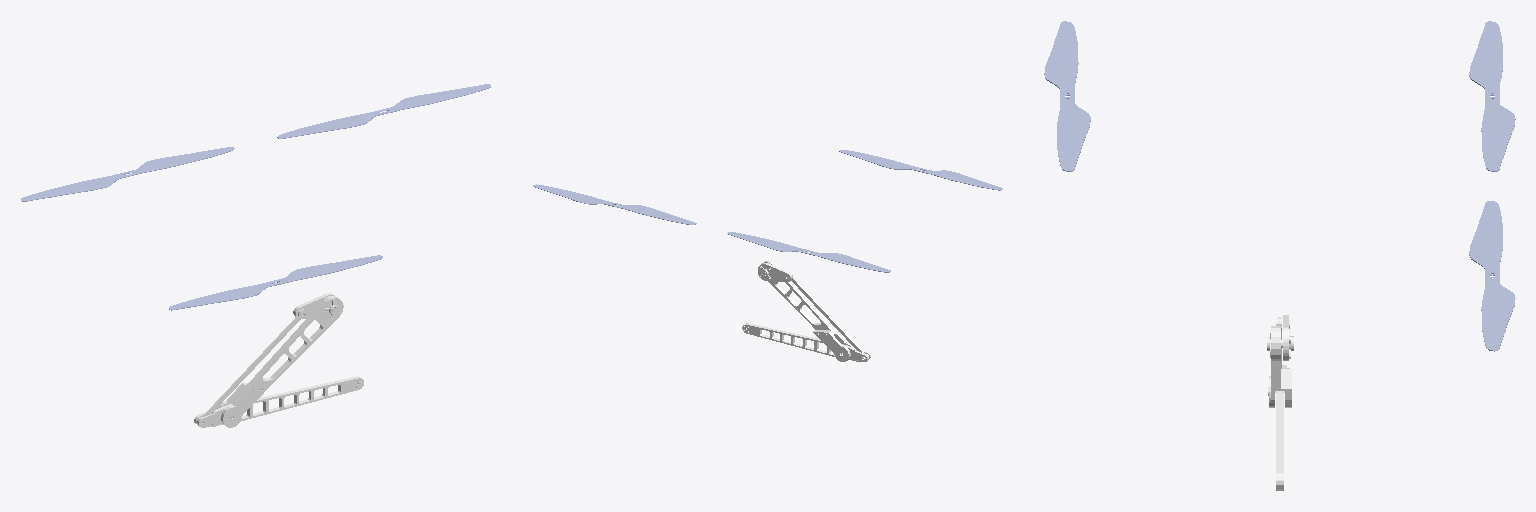
The robot description file, URDF, robot "amsim_urdf_x650_portable_v1_flight":
<?xml version='1.0' encoding='utf-8'?>
<robot name="amsim_urdf_x650_portable_v1_flight">
  <!--Gazebo Harmonic dynamic model. Requires bundled closure/IMU plugins and meshes. See README_CN.txt.-->
  <link name="base_link">
    <inertial>
      <origin xyz="0.00074357 9.8075e-05 -0.018768" rpy="0 -0 0" />
      <mass value="2.75" />
      <inertia ixx="0.0016399" ixy="-1.4193e-06" ixz="-3.2998e-08" iyy="0.002814" iyz="1.7423e-08" izz="0.0034264" />
    </inertial>
    <visual name="visual_0">
      <origin xyz="0 0 0" rpy="0 -0 0" />
      <geometry>
        <mesh filename="package://x650_closed_chain_gazebo/meshes/base_link.STL" scale="1 1 1" />
      </geometry>
      <material name="base_link_0">
        <color rgba="1 1 1 1" />
      </material>
    </visual>
    <collision name="skid_-1">
      <origin xyz="0 -0.15 -0.33550595" rpy="0 -0 0" />
      <geometry>
        <box size="0.32 0.025 0.02" />
      </geometry>
    </collision>
    <collision name="skid_1">
      <origin xyz="0 0.15 -0.33550595" rpy="0 -0 0" />
      <geometry>
        <box size="0.32 0.025 0.02" />
      </geometry>
    </collision>
    <collision name="body">
      <origin xyz="0 0 -0.015" rpy="0 -0 0" />
      <geometry>
        <box size="0.16 0.16 0.08" />
      </geometry>
    </collision>
  </link>
  <gazebo reference="base_link">
    <sensor name="air_pressure_sensor" type="air_pressure">
      <gz_frame_id>base_link</gz_frame_id>
      <always_on>1</always_on>
      <update_rate>50</update_rate>
      <air_pressure>
        <pressure>
          <noise type="gaussian">
            <mean>0</mean>
            <stddev>3</stddev>
          </noise>
        </pressure>
      </air_pressure>
    </sensor>
    <sensor name="magnetometer_sensor" type="magnetometer">
      <gz_frame_id>base_link</gz_frame_id>
      <always_on>1</always_on>
      <update_rate>100</update_rate>
      <magnetometer>
        <x>
          <noise type="gaussian">
            <stddev>0.0001</stddev>
          </noise>
        </x>
        <y>
          <noise type="gaussian">
            <stddev>0.0001</stddev>
          </noise>
        </y>
        <z>
          <noise type="gaussian">
            <stddev>0.0001</stddev>
          </noise>
        </z>
      </magnetometer>
    </sensor>
    <sensor name="imu_sensor" type="imu">
      <gz_frame_id>base_link</gz_frame_id>
      <always_on>1</always_on>
      <update_rate>250</update_rate>
      <imu>
        <angular_velocity>
          <x>
            <noise type="gaussian">
              <mean>0.0</mean>
              <stddev>0.0008726646</stddev>
            </noise>
          </x>
          <y>
            <noise type="gaussian">
              <mean>0.0</mean>
              <stddev>0.0008726646</stddev>
            </noise>
          </y>
          <z>
            <noise type="gaussian">
              <mean>0.0</mean>
              <stddev>0.0008726646</stddev>
            </noise>
          </z>
        </angular_velocity>
        <linear_acceleration>
          <x>
            <noise type="gaussian">
              <mean>0.0</mean>
              <stddev>0.00637</stddev>
            </noise>
          </x>
          <y>
            <noise type="gaussian">
              <mean>0.0</mean>
              <stddev>0.00637</stddev>
            </noise>
          </y>
          <z>
            <noise type="gaussian">
              <mean>0.0</mean>
              <stddev>0.00686</stddev>
            </noise>
          </z>
        </linear_acceleration>
      </imu>
    </sensor>
    <sensor name="navsat_sensor" type="navsat">
      <gz_frame_id>base_link</gz_frame_id>
      <always_on>1</always_on>
      <update_rate>30</update_rate>
    </sensor>
  </gazebo>
  <link name="M1_link">
    <inertial>
      <origin xyz="1.3878e-16 0 0.00049999" rpy="0 -0 0" />
      <mass value="0.021" />
      <inertia ixx="8.8595e-07" ixy="-2.9086e-06" ixz="1.3735e-22" iyy="0.00010659" iyz="-3.9282e-22" izz="0.00010747" />
    </inertial>
    <visual name="visual_0">
      <origin xyz="0 0 0" rpy="0 -0 0" />
      <geometry>
        <mesh filename="package://x650_closed_chain_gazebo/meshes/M1_link.STL" scale="1 1 1" />
      </geometry>
      <material name="M1_link_0">
        <color rgba="0.79216 0.81961 0.93333 1" />
      </material>
    </visual>
  </link>
  <link name="M2_link">
    <inertial>
      <origin xyz="-8.8818e-16 -1.74570575460818e-18 0.00049999" rpy="1.5707963267949 -0 0" />
      <mass value="0.021" />
      <inertia ixx="8.8595e-07" ixy="5.049e-22" ixz="2.9086e-06" iyy="0.00010747" iyz="1.5172e-22" izz="0.00010659" />
    </inertial>
    <visual name="visual_0">
      <origin xyz="0 0 0" rpy="1.5707963267949 -0 0" />
      <geometry>
        <mesh filename="package://x650_closed_chain_gazebo/meshes/M2_link.STL" scale="1 1 1" />
      </geometry>
      <material name="M2_link_0">
        <color rgba="0.79216 0.81961 0.93333 1" />
      </material>
    </visual>
  </link>
  <link name="M3_link">
    <inertial>
      <origin xyz="8.8818e-16 6.6613e-16 0.00049999" rpy="0 -0 0" />
      <mass value="0.021" />
      <inertia ixx="8.8595e-07" ixy="-2.9086e-06" ixz="2.6394e-23" iyy="0.00010659" iyz="3.8187e-22" izz="0.00010747" />
    </inertial>
    <visual name="visual_0">
      <origin xyz="0 0 0" rpy="0 -0 0" />
      <geometry>
        <mesh filename="package://x650_closed_chain_gazebo/meshes/M3_link.STL" scale="1 1 1" />
      </geometry>
      <material name="M3_link_0">
        <color rgba="0.79216 0.81961 0.93333 1" />
      </material>
    </visual>
  </link>
  <link name="M4_link">
    <inertial>
      <origin xyz="2.4425e-15 4.4409e-16 0.00049999" rpy="0 -0 0" />
      <mass value="0.021" />
      <inertia ixx="8.8595e-07" ixy="-2.9086e-06" ixz="9.4793e-22" iyy="0.00010659" iyz="2.0836e-22" izz="0.00010747" />
    </inertial>
    <visual name="visual_0">
      <origin xyz="0 0 0" rpy="0 -0 0" />
      <geometry>
        <mesh filename="package://x650_closed_chain_gazebo/meshes/M4_link.STL" scale="1 1 1" />
      </geometry>
      <material name="M4_link_0">
        <color rgba="0.79216 0.81961 0.93333 1" />
      </material>
    </visual>
  </link>
  <link name="upper_arm_Link">
    <inertial>
      <origin xyz="0.12315 8.67159999999856e-05 -0.0073443" rpy="-3.53993727976508e-31 8.13401285973998e-32 -3.83897293890886e-18" />
      <mass value="0.07465955" />
      <inertia ixx="1.05773e-05" ixy="-1.601225e-08" ixz="1.463855e-05" iyy="0.0005110144999999999" iyz="1.37959e-07" izz="0.0005151185" />
    </inertial>
    <visual name="visual_0">
      <origin xyz="-1.38777878078145e-17 -1.38777878078145e-17 0" rpy="-3.53993727976508e-31 8.13401285973998e-32 -3.83897293890886e-18" />
      <geometry>
        <mesh filename="package://x650_closed_chain_gazebo/meshes/upper_arm_Link.STL" scale="1 1 1" />
      </geometry>
      <material name="upper_arm_Link_0">
        <color rgba="1 1 1 1" />
      </material>
    </visual>
    <collision name="arm_box">
      <origin xyz="0.114 -1.43154307228501e-17 -0.008" rpy="-3.53993727976508e-31 8.13401285973998e-32 -3.83897293890886e-18" />
      <geometry>
        <box size="0.266 0.038 0.027" />
      </geometry>
    </collision>
  </link>
  <link name="fore_crank_Link">
    <inertial>
      <origin xyz="0.014321 -6.4497e-15 0.0027147" rpy="0 -0 -4.28021310024616e-46" />
      <mass value="0.037" />
      <inertia ixx="1.5317e-06" ixy="-9.0748e-23" ixz="2.3915e-08" iyy="7.1335e-06" iyz="9.0714e-23" izz="8.4855e-06" />
    </inertial>
    <visual name="visual_0">
      <origin xyz="-6.16297582203915e-33 0 0" rpy="0 -0 -4.28021310024616e-46" />
      <geometry>
        <mesh filename="package://x650_closed_chain_gazebo/meshes/fore_crank_Link.STL" scale="1 1 1" />
      </geometry>
      <material name="fore_crank_Link_0">
        <color rgba="1 1 1 1" />
      </material>
    </visual>
  </link>
  <link name="fore_long_link">
    <inertial>
      <origin xyz="-0.089189 -0.069682 0.0035934" rpy="0 -0 0" />
      <mass value="0.014559" />
      <inertia ixx="2.6879e-05" ixy="-3.4265e-05" ixz="1.5241e-20" iyy="4.3965e-05" iyz="1.2098e-20" izz="7.0806e-05" />
    </inertial>
    <visual name="visual_0">
      <origin xyz="0 0 0" rpy="0 -0 0" />
      <geometry>
        <mesh filename="package://x650_closed_chain_gazebo/meshes/fore_long_link.STL" scale="1 1 1" />
      </geometry>
      <material name="fore_long_link_0">
        <color rgba="1 1 1 1" />
      </material>
    </visual>
  </link>
  <link name="fore_arm_Link">
    <inertial>
      <origin xyz="0.12397 8.5424e-05 0.0015116" rpy="0 -0 0" />
      <mass value="0.040933" />
      <inertia ixx="3.0578e-06" ixy="-4.8419e-07" ixz="-7.5423e-07" iyy="0.00035161" iyz="7.7673e-10" izz="0.000354" />
    </inertial>
    <visual name="visual_0">
      <origin xyz="0 0 0" rpy="0 -0 0" />
      <geometry>
        <mesh filename="package://x650_closed_chain_gazebo/meshes/fore_arm_Link.STL" scale="1 1 1" />
      </geometry>
      <material name="fore_arm_Link_0">
        <color rgba="1 1 1 1" />
      </material>
    </visual>
    <collision name="forearm_box">
      <origin xyz="0.141 0 0" rpy="0 -0 0" />
      <geometry>
        <box size="0.298 0.03 0.019" />
      </geometry>
    </collision>
  </link>
  <link name="B_closure_proxy">
    <inertial>
      <origin xyz="-0.10685 8.67159999997775e-05 0.00360570000000059" rpy="-3.53993727976508e-31 8.13401285973998e-32 -3.83897293890886e-18" />
      <mass value="0.00392945" />
      <inertia ixx="5.567e-07" ixy="-8.427500000000002e-10" ixz="7.704500000000001e-07" iyy="2.68955e-05" iyz="7.261000000000001e-09" izz="2.7111500000000006e-05" />
    </inertial>
  </link>
  <joint name="M1_joint" type="continuous">
    <parent link="base_link" />
    <child link="M1_link" />
    <origin xyz="0.229906637611549 -0.229906637611549 0.0325" rpy="0 -0 0" />
    <axis xyz="0 0 1" />
    <limit effort="1000" velocity="1000" />
  </joint>
  <joint name="M2_joint" type="continuous">
    <parent link="base_link" />
    <child link="M2_link" />
    <origin xyz="-0.229906637611548 0.229906637611548 0.0325" rpy="0 -0 0" />
    <axis xyz="0 0 1" />
    <limit effort="1000" velocity="1000" />
  </joint>
  <joint name="M3_joint" type="continuous">
    <parent link="base_link" />
    <child link="M3_link" />
    <origin xyz="0.229906637611549 0.229906637611548 0.0325" rpy="0 -0 0" />
    <axis xyz="0 0 1" />
    <limit effort="1000" velocity="1000" />
  </joint>
  <joint name="M4_joint" type="continuous">
    <parent link="base_link" />
    <child link="M4_link" />
    <origin xyz="-0.229906637611548 -0.229906637611549 0.0325" rpy="0 -0 0" />
    <axis xyz="0 0 1" />
    <limit effort="1000" velocity="1000" />
  </joint>
  <joint name="upper_arm_joint" type="revolute">
    <parent link="base_link" />
    <child link="upper_arm_Link" />
    <origin xyz="0 -0.00925 -0.155" rpy="-1.5707963267949 0.66323 -3.14159265358979" />
    <axis xyz="2.54612327912393e-15 -5.48075088704857e-15 1" />
    <limit effort="10" velocity="1" lower="0" upper="1.95" />
    <dynamics damping="0.002" friction="0" />
  </joint>
  <joint name="fore_crank_joint" type="revolute">
    <parent link="base_link" />
    <child link="fore_crank_Link" />
    <origin xyz="0 0.01025 -0.155" rpy="-1.5707963267949 -0 3.14159265358979" />
    <axis xyz="3.23108914886517e-15 3.49148133884313e-15 -1" />
    <limit effort="10" velocity="1" lower="0" upper="0.78" />
    <dynamics damping="0.002" friction="0" />
  </joint>
  <joint name="C_passive" type="revolute">
    <parent link="fore_crank_Link" />
    <child link="fore_long_link" />
    <origin xyz="0.05 -2.77555756156289e-17 0.00700000000000016" rpy="0 3.23108914886517e-15 3.14159265358979" />
    <axis xyz="0 -3.49148133884313e-15 -1" />
    <limit effort="1000" velocity="1000" lower="-3.141592653589793" upper="3.141592653589793" />
    <dynamics damping="0.002" friction="0" />
  </joint>
  <joint name="D_passive" type="revolute">
    <parent link="fore_long_link" />
    <child link="fore_arm_Link" />
    <origin xyz="-0.181241781708246 -0.141603024555341 0.00155000000000049" rpy="0 -0 0" />
    <axis xyz="0 -3.49148133884313e-15 -1" />
    <limit effort="1000" velocity="1000" lower="-3.141592653589793" upper="3.141592653589793" />
    <dynamics damping="0.002" friction="0" />
  </joint>
  <joint name="B_passive" type="revolute">
    <parent link="fore_arm_Link" />
    <child link="B_closure_proxy" />
    <origin xyz="0.05 0 0" rpy="-2.72943654507891e-15 -4.69570726937923e-15 -2.47836265358979" />
    <axis xyz="-2.54612327912393e-15 5.48075088704857e-15 -1" />
    <limit effort="1000" velocity="1000" lower="-3.141592653589793" upper="3.141592653589793" />
    <dynamics damping="0.002" friction="0" />
  </joint>
  <gazebo>
    <self_collide>false</self_collide>
    <plugin filename="libx650_cad_arm.so" name="cad_arm::Closure">
      <enabled>true</enabled>
      <exercise>false</exercise>
      <anchor_big>0.23 -4.16333634234434e-17 -0.01095</anchor_big>
      <anchor_small>0.05 0 5.28992658003769e-20</anchor_small>
      <velocity_mode>true</velocity_mode>
    </plugin>
    <plugin filename="gz-sim-joint-state-publisher-system" name="gz::sim::systems::JointStatePublisher">
      <update_rate>50</update_rate>
      <joint_name>upper_arm_joint</joint_name>
      <joint_name>fore_crank_joint</joint_name>
    </plugin>
    <plugin filename="libx650_cad_arm.so" name="cad_arm::ImuAcceleration" />
    <plugin filename="gz-sim-multicopter-motor-model-system" name="gz::sim::systems::MulticopterMotorModel">
      <jointName>M1_joint</jointName>
      <linkName>M1_link</linkName>
      <turningDirection>ccw</turningDirection>
      <motorConstant>4.828453605732144e-05</motorConstant>
      <momentConstant>0.016</momentConstant>
      <maxRotVelocity>628.3185307179587</maxRotVelocity>
      <timeConstantUp>0.0125</timeConstantUp>
      <timeConstantDown>0.025</timeConstantDown>
      <rotorDragCoefficient>0.0001</rotorDragCoefficient>
      <rollingMomentCoefficient>1e-06</rollingMomentCoefficient>
      <rotorVelocitySlowdownSim>10.0</rotorVelocitySlowdownSim>
      <commandSubTopic>command/motor_speed</commandSubTopic>
      <motorNumber>0</motorNumber>
      <motorType>velocity</motorType>
    </plugin>
    <plugin filename="gz-sim-multicopter-motor-model-system" name="gz::sim::systems::MulticopterMotorModel">
      <jointName>M2_joint</jointName>
      <linkName>M2_link</linkName>
      <turningDirection>ccw</turningDirection>
      <motorConstant>4.828453605732144e-05</motorConstant>
      <momentConstant>0.016</momentConstant>
      <maxRotVelocity>628.3185307179587</maxRotVelocity>
      <timeConstantUp>0.0125</timeConstantUp>
      <timeConstantDown>0.025</timeConstantDown>
      <rotorDragCoefficient>0.0001</rotorDragCoefficient>
      <rollingMomentCoefficient>1e-06</rollingMomentCoefficient>
      <rotorVelocitySlowdownSim>10.0</rotorVelocitySlowdownSim>
      <commandSubTopic>command/motor_speed</commandSubTopic>
      <motorNumber>1</motorNumber>
      <motorType>velocity</motorType>
    </plugin>
    <plugin filename="gz-sim-multicopter-motor-model-system" name="gz::sim::systems::MulticopterMotorModel">
      <jointName>M3_joint</jointName>
      <linkName>M3_link</linkName>
      <turningDirection>cw</turningDirection>
      <motorConstant>4.828453605732144e-05</motorConstant>
      <momentConstant>0.016</momentConstant>
      <maxRotVelocity>628.3185307179587</maxRotVelocity>
      <timeConstantUp>0.0125</timeConstantUp>
      <timeConstantDown>0.025</timeConstantDown>
      <rotorDragCoefficient>0.0001</rotorDragCoefficient>
      <rollingMomentCoefficient>1e-06</rollingMomentCoefficient>
      <rotorVelocitySlowdownSim>10.0</rotorVelocitySlowdownSim>
      <commandSubTopic>command/motor_speed</commandSubTopic>
      <motorNumber>2</motorNumber>
      <motorType>velocity</motorType>
    </plugin>
    <plugin filename="gz-sim-multicopter-motor-model-system" name="gz::sim::systems::MulticopterMotorModel">
      <jointName>M4_joint</jointName>
      <linkName>M4_link</linkName>
      <turningDirection>cw</turningDirection>
      <motorConstant>4.828453605732144e-05</motorConstant>
      <momentConstant>0.016</momentConstant>
      <maxRotVelocity>628.3185307179587</maxRotVelocity>
      <timeConstantUp>0.0125</timeConstantUp>
      <timeConstantDown>0.025</timeConstantDown>
      <rotorDragCoefficient>0.0001</rotorDragCoefficient>
      <rollingMomentCoefficient>1e-06</rollingMomentCoefficient>
      <rotorVelocitySlowdownSim>10.0</rotorVelocitySlowdownSim>
      <commandSubTopic>command/motor_speed</commandSubTopic>
      <motorNumber>3</motorNumber>
      <motorType>velocity</motorType>
    </plugin>
    <plugin filename="gz-sim-odometry-publisher-system" name="gz::sim::systems::OdometryPublisher">
      <dimensions>3</dimensions>
      <odom_publish_frequency>50</odom_publish_frequency>
      <odom_topic>/ground_truth/odometry</odom_topic>
      <odom_frame>world</odom_frame>
      <robot_base_frame>amsim_urdf_x650_portable_v1_flight/model_frame</robot_base_frame>
      <gaussian_noise>0</gaussian_noise>
    </plugin>
  </gazebo>
</robot>

--- Facts derived from the render (not from the file) ---
Views: 3 orthographic renders of the robot side by side, from view 1: azimuth 30°, elevation 25°; view 2: azimuth 150°, elevation 25°; view 3: azimuth 270°, elevation 25°.
Robot: amsim_urdf_x650_portable_v1_flight — 10 links, 9 joints (5 revolute, 4 continuous); root link base_link; default pose: all joints at 0.
Links seen in each view (by area): view 1: upper_arm_Link, M4_link, M3_link, M2_link, fore_arm_Link, fore_long_link; view 2: upper_arm_Link, M4_link, M3_link, M2_link, fore_arm_Link; view 3: M4_link, M2_link, M3_link, upper_arm_Link, fore_arm_Link.
Boxes of the visible links, box(x1,y1,x2,y2) form: upper_arm_Link: box(217, 296, 343, 427); M4_link: box(169, 255, 382, 310); M3_link: box(277, 84, 490, 138); M2_link: box(21, 147, 234, 201); fore_arm_Link: box(194, 376, 363, 427); fore_long_link: box(196, 309, 306, 424); upper_arm_Link: box(764, 261, 853, 361); M4_link: box(839, 150, 1002, 190); M3_link: box(533, 184, 696, 224); M2_link: box(727, 232, 890, 272); fore_arm_Link: box(742, 323, 870, 361); M4_link: box(1044, 21, 1090, 171); M2_link: box(1469, 21, 1515, 171); M3_link: box(1469, 201, 1515, 351); upper_arm_Link: box(1267, 326, 1291, 407); fore_arm_Link: box(1275, 365, 1289, 490).
Size in the robot's own frame: 0.8435 by 0.5098 by 0.3476 metres.
Meshes: 9 distinct files referenced, 7 mesh visuals loaded (7 binary STL); not drawn: 2 (reference not matched to a file when rendering).
